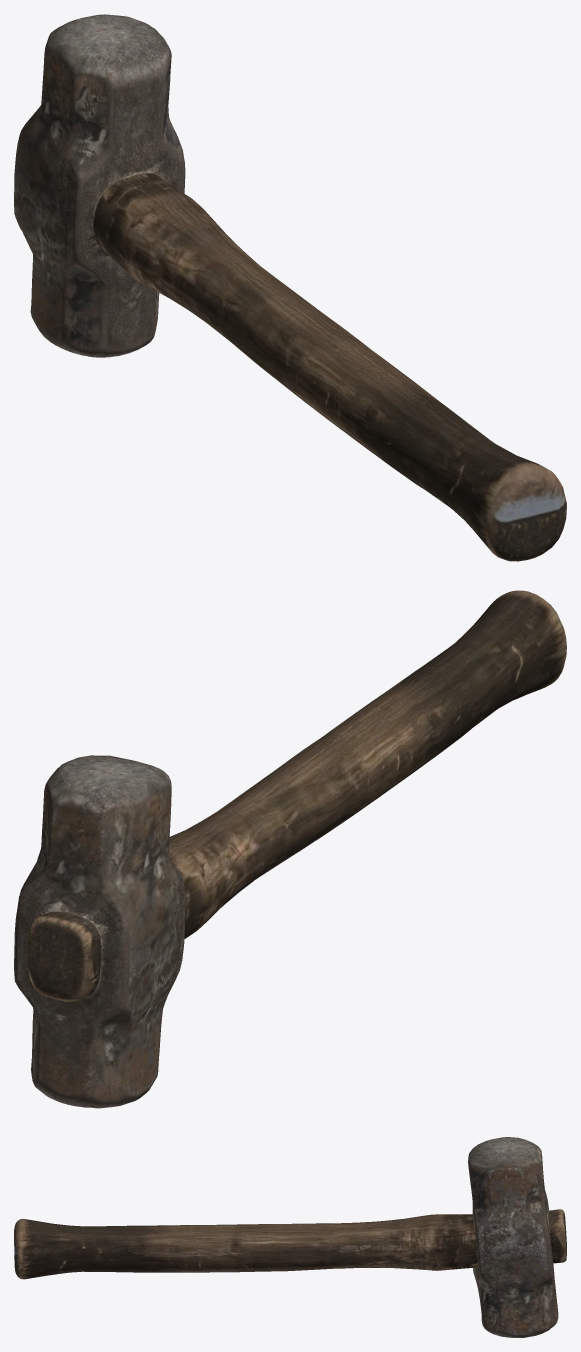
File: sledgehammer.c880c6be.glb
3 renders of one model, top to bottom at view 1: azimuth 30°, elevation 25°; view 2: azimuth 150°, elevation 25°; view 3: azimuth 270°, elevation 25°, orthographic. The views are drawn at different scales.
Parts seen in each view (by area): view 1: tilt; view 2: tilt; view 3: tilt.
Boxes of the visible parts, x1,y1,x2,y2 form: tilt: (14,14,566,561); tilt: (14,590,566,1108); tilt: (14,1137,566,1337).
Bounding box in the file's own units: 0.132 × 0.3278 × 0.9.
Materials: 1 (1 with a texture image).
